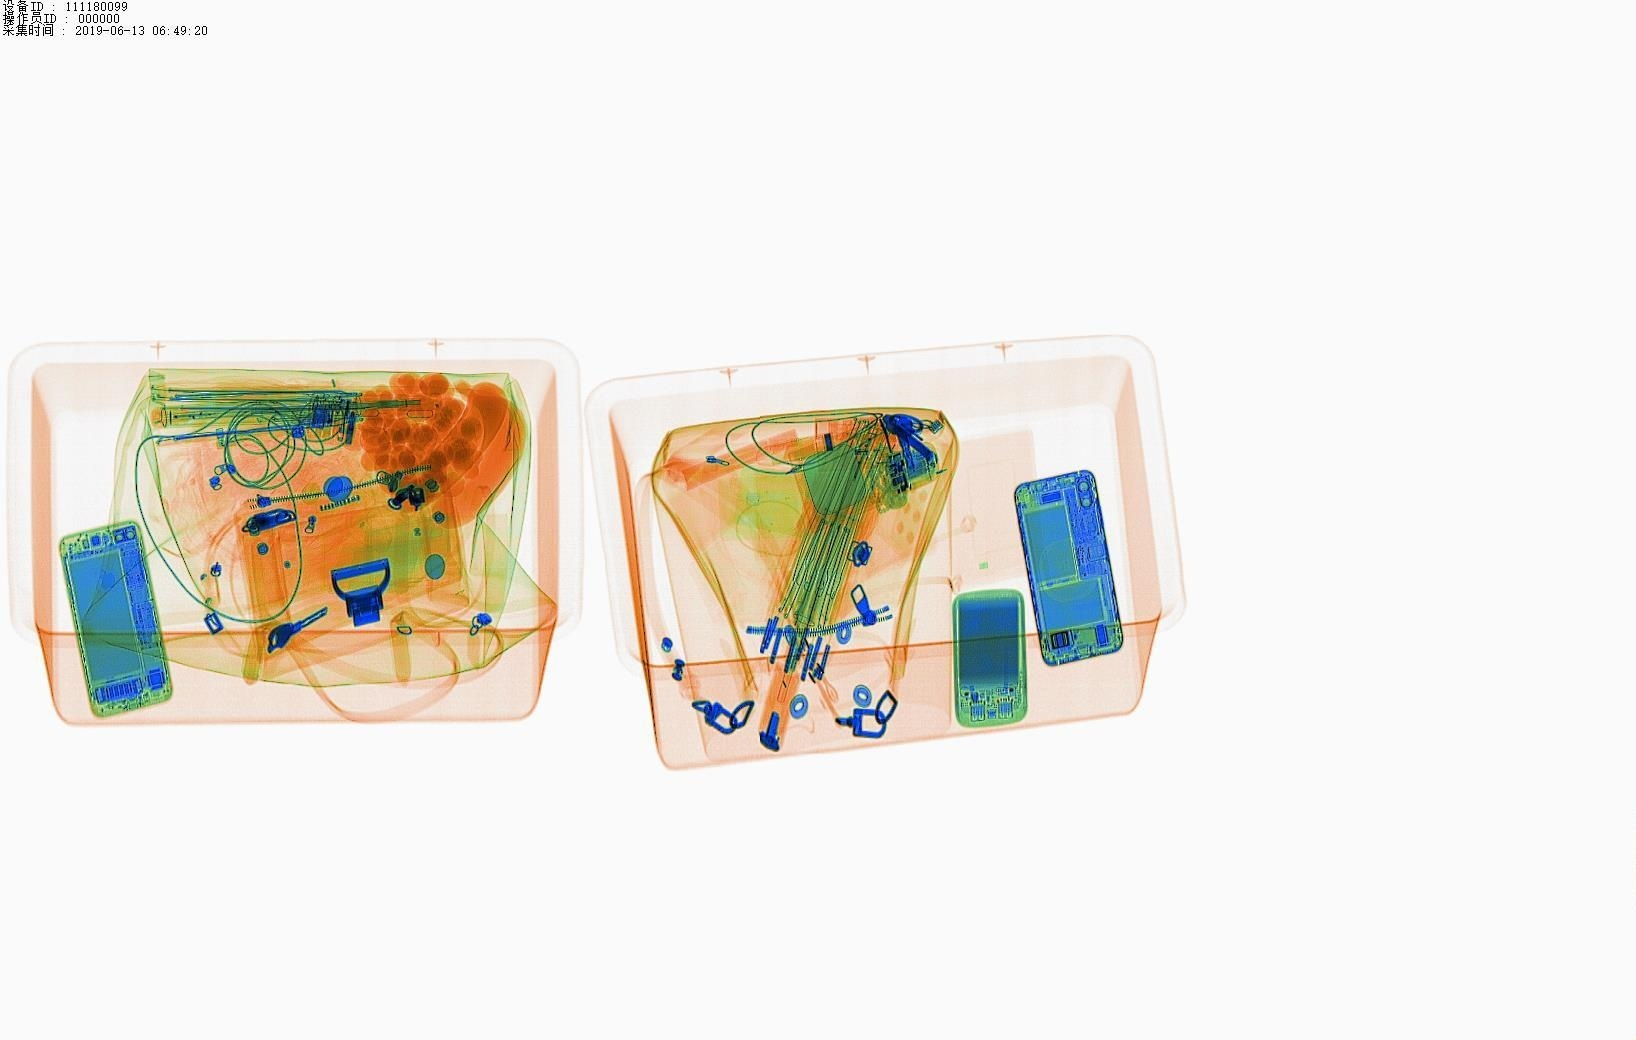NonmetallicFire: (812, 435, 912, 479)
